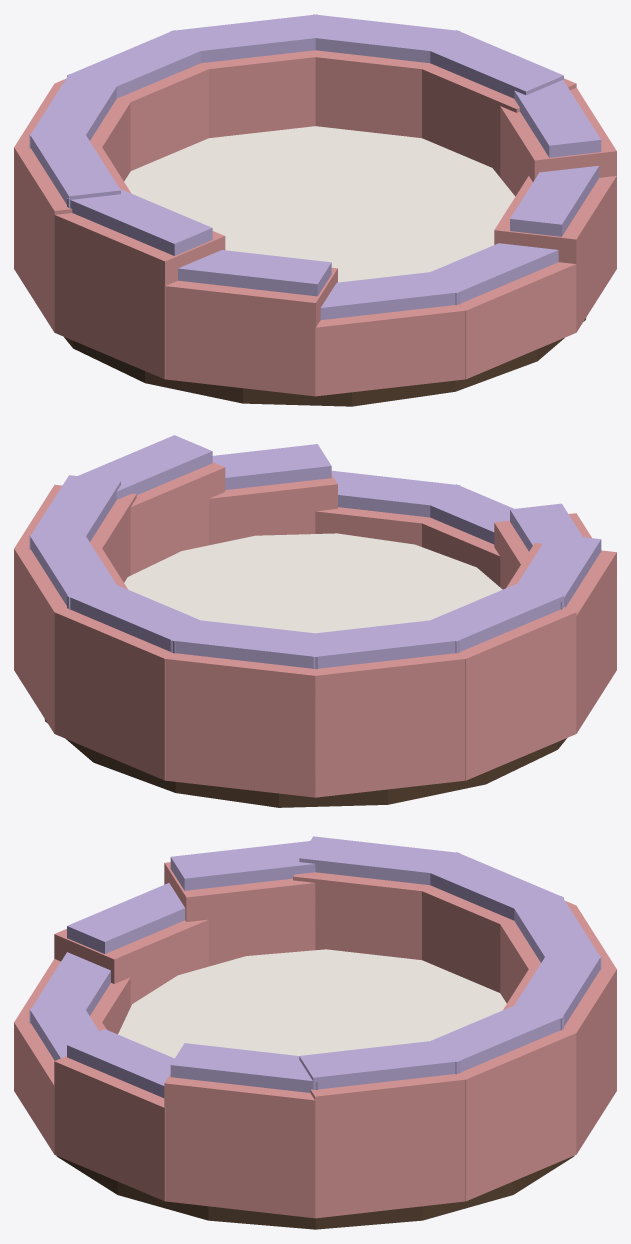
File: CatCafe_Furniture_CatBed.fbx
The picture shows the model from 3 angles, top to bottom: view 1: azimuth 30°, elevation 25°; view 2: azimuth 150°, elevation 25°; view 3: azimuth 270°, elevation 25°; orthographic projection.
Parts seen in each view (by area): view 1: CatCafe_Furniture_CatBed; view 2: CatCafe_Furniture_CatBed; view 3: CatCafe_Furniture_CatBed.
Part boxes in pixels (x1,y1,x2,y2): CatCafe_Furniture_CatBed: [14, 14, 616, 406]; CatCafe_Furniture_CatBed: [14, 435, 616, 807]; CatCafe_Furniture_CatBed: [14, 836, 616, 1229].
Bounding box in the file's own units: 2.69 × 0.76 × 2.69.
1 material, 1 textured.
